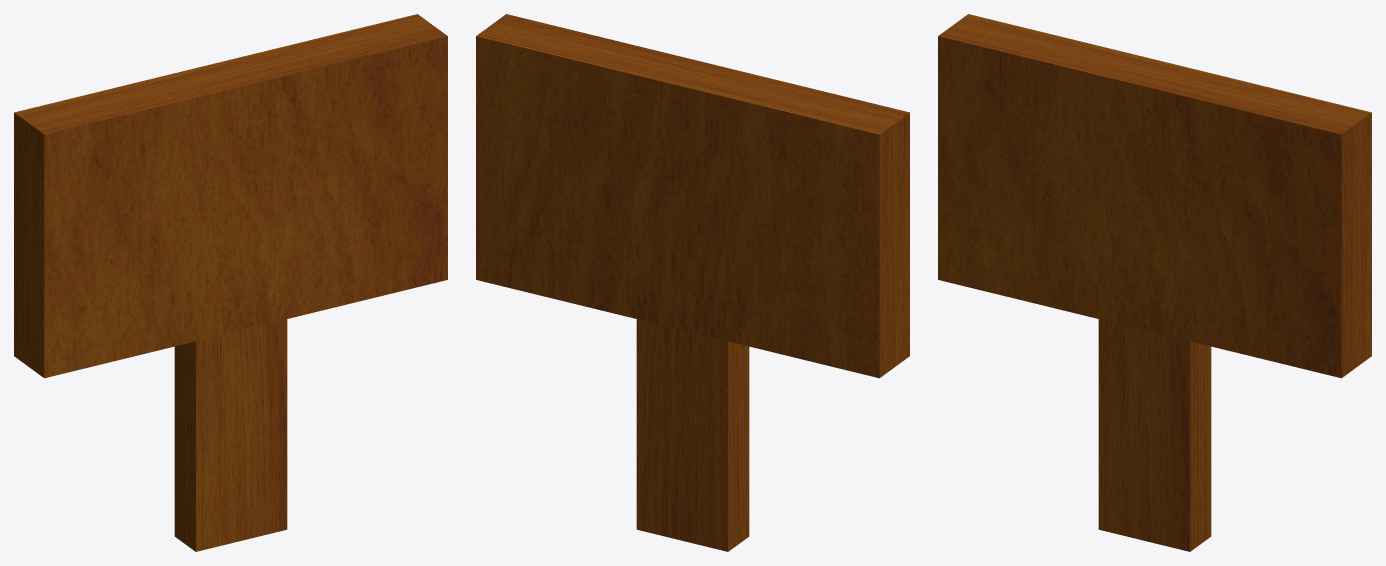
File: sign.glb
3 views of the same model, side by side, from view 1: azimuth 30°, elevation 25°; view 2: azimuth 150°, elevation 25°; view 3: azimuth 330°, elevation 25° (orthographic).
Visible parts, largest first — view 1: Cube.001, Cube; view 2: Cube.001, Cube; view 3: Cube.001, Cube.
Part boxes in pixels (<box>): Cube.001: <box>14,14,447,378</box>; Cube: <box>174,319,287,551</box>; Cube.001: <box>476,14,909,378</box>; Cube: <box>636,319,749,551</box>; Cube.001: <box>938,14,1371,378</box>; Cube: <box>1098,319,1211,551</box>.
Bounding box in the file's own units: 3.47 × 3.76 × 0.4504.
1 material, 1 textured.
